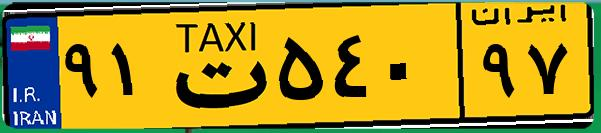0: (385, 28, 445, 110)
1: (110, 28, 158, 98)
4: (330, 28, 385, 110)
5: (270, 28, 330, 110)
7: (525, 38, 570, 115)
9: (57, 26, 110, 100), (475, 38, 525, 113)
ت: (158, 12, 270, 120)
